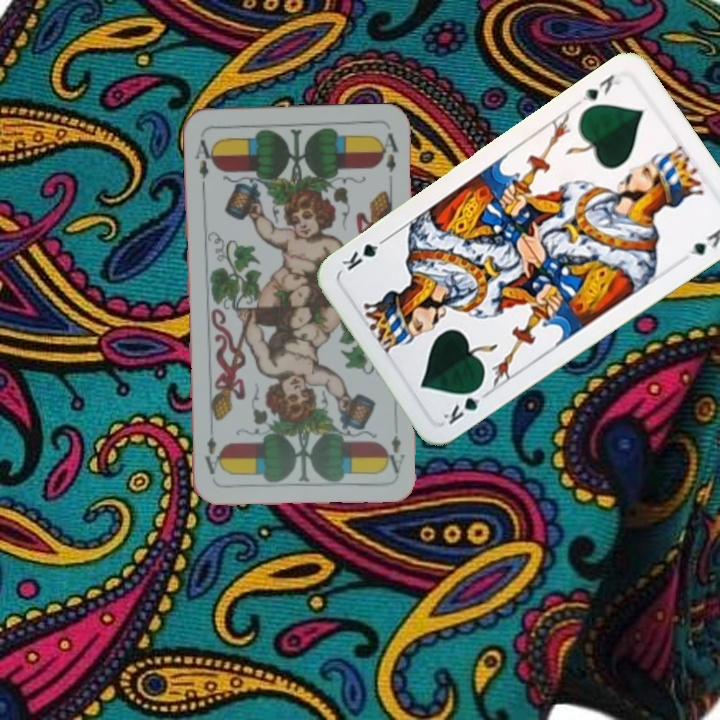EA: (191, 135, 217, 190), (381, 431, 408, 476)
GK: (439, 381, 492, 428), (578, 70, 625, 104)
